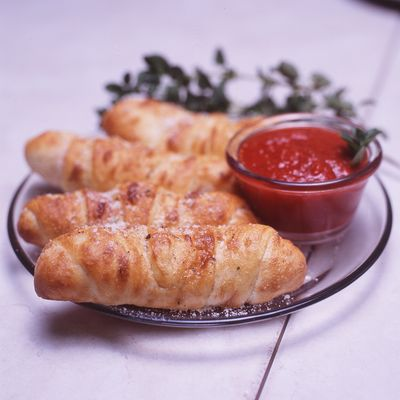sushi: (225, 111, 384, 243)
